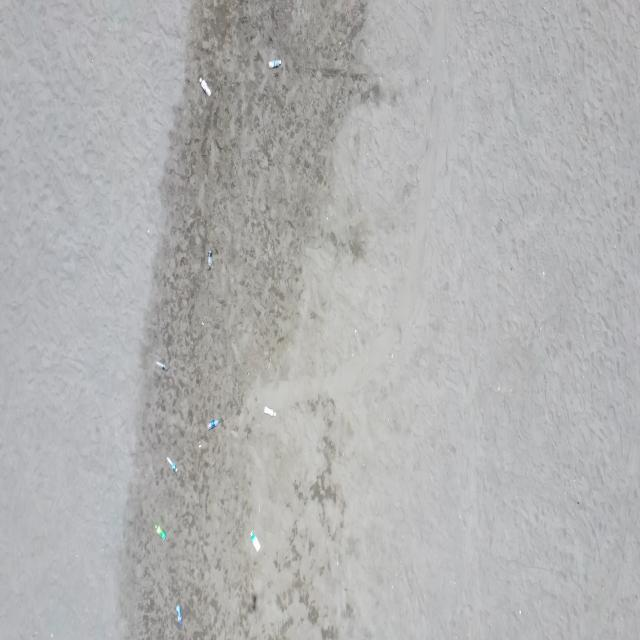plastic-bottle: (199, 75, 212, 98), (153, 522, 169, 540), (250, 530, 262, 552), (206, 416, 221, 431), (167, 456, 179, 474), (175, 603, 183, 629), (264, 405, 278, 419), (156, 358, 170, 372), (266, 58, 282, 70), (208, 249, 213, 273)
